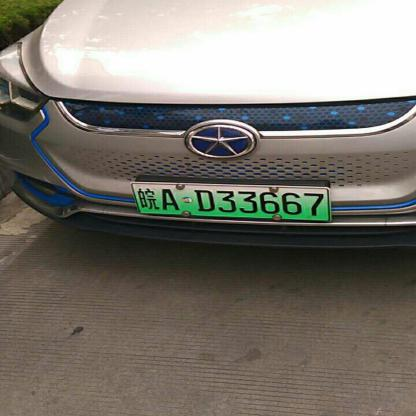lp: (131, 182, 332, 219)
